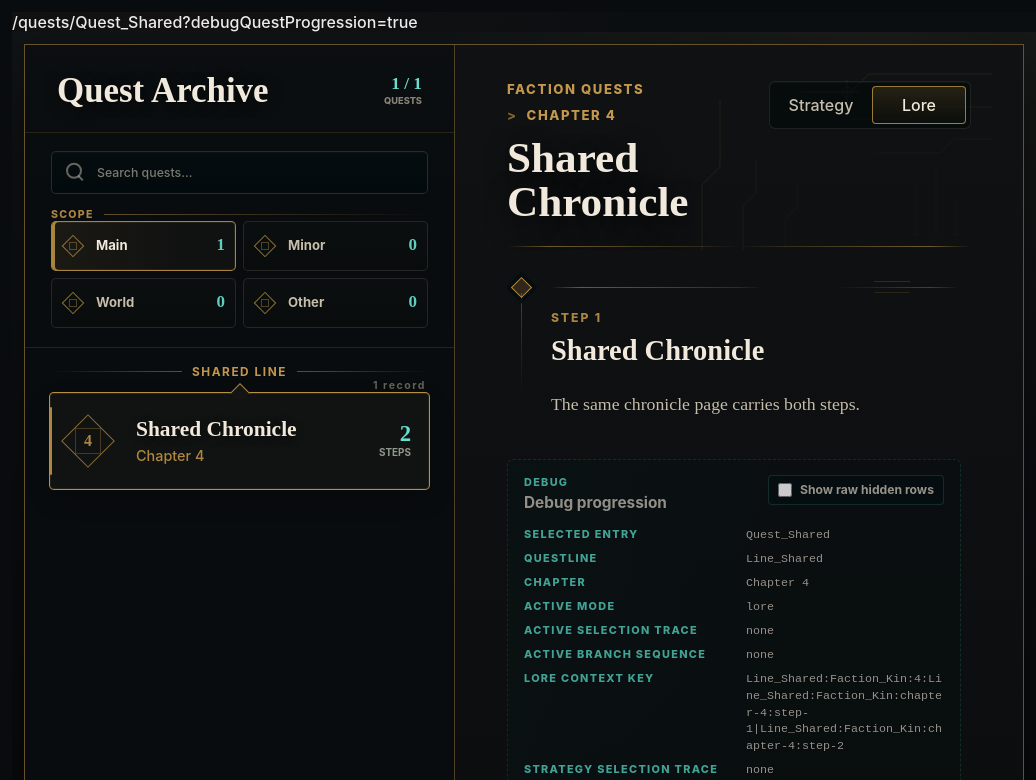
Test: QuestExplorerPage debug and progression tooling › does not repeat branch rows for repeated detailEntryKey projection stages
Expected: the heading "Shared Chronicle" is shown, [507, 134, 688, 226]
What coordinates should you click on to do the following:
click the checkbox labelled "Show raw hidden rows"
I would click on:
 (785, 490)
Its box is [778, 483, 792, 497].
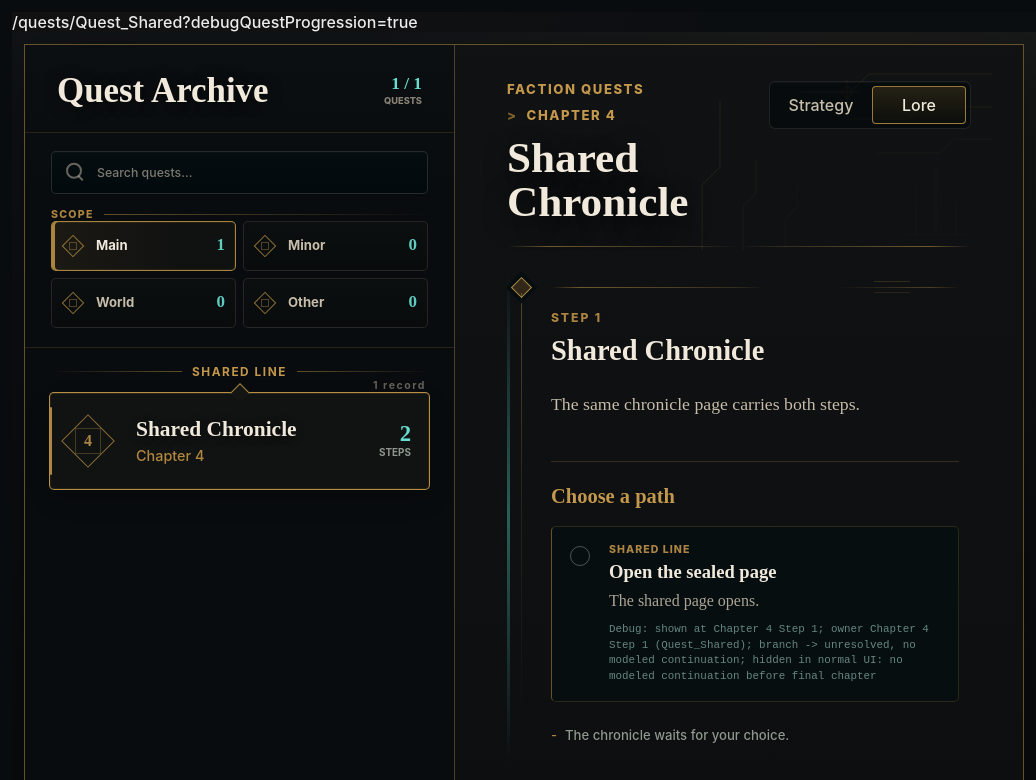
Expected: the number of buttons "Open the sealed page" is 1, [551, 526, 959, 702]
